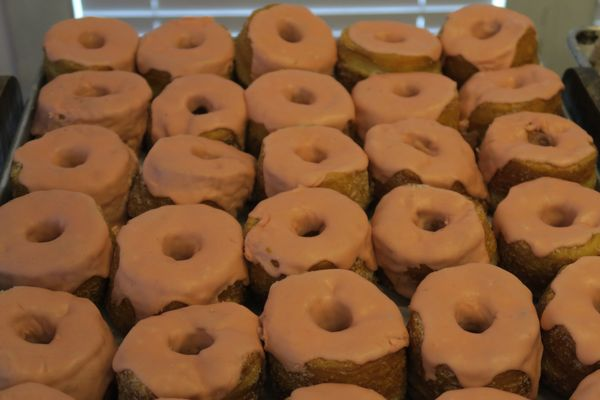salad: (260, 268, 411, 395), (408, 262, 543, 393), (111, 203, 247, 321), (112, 301, 266, 396), (242, 186, 373, 295), (370, 183, 493, 298), (11, 123, 139, 225), (1, 285, 116, 396), (492, 176, 600, 285), (0, 189, 112, 294), (365, 116, 490, 201), (141, 133, 256, 222), (31, 69, 153, 151), (259, 124, 372, 207), (478, 110, 598, 187), (232, 2, 338, 87), (538, 254, 600, 395), (244, 68, 357, 142), (150, 73, 248, 152), (351, 71, 461, 141), (457, 63, 565, 134), (439, 3, 540, 78), (335, 18, 443, 88), (135, 17, 235, 82), (43, 17, 139, 78)
